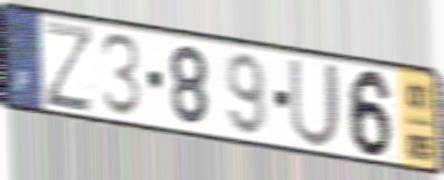3: (100, 30, 143, 118)
6: (347, 67, 398, 161)
8: (168, 42, 211, 127)
9: (224, 50, 268, 138)
U: (287, 55, 343, 151)
Z: (41, 17, 95, 115)
